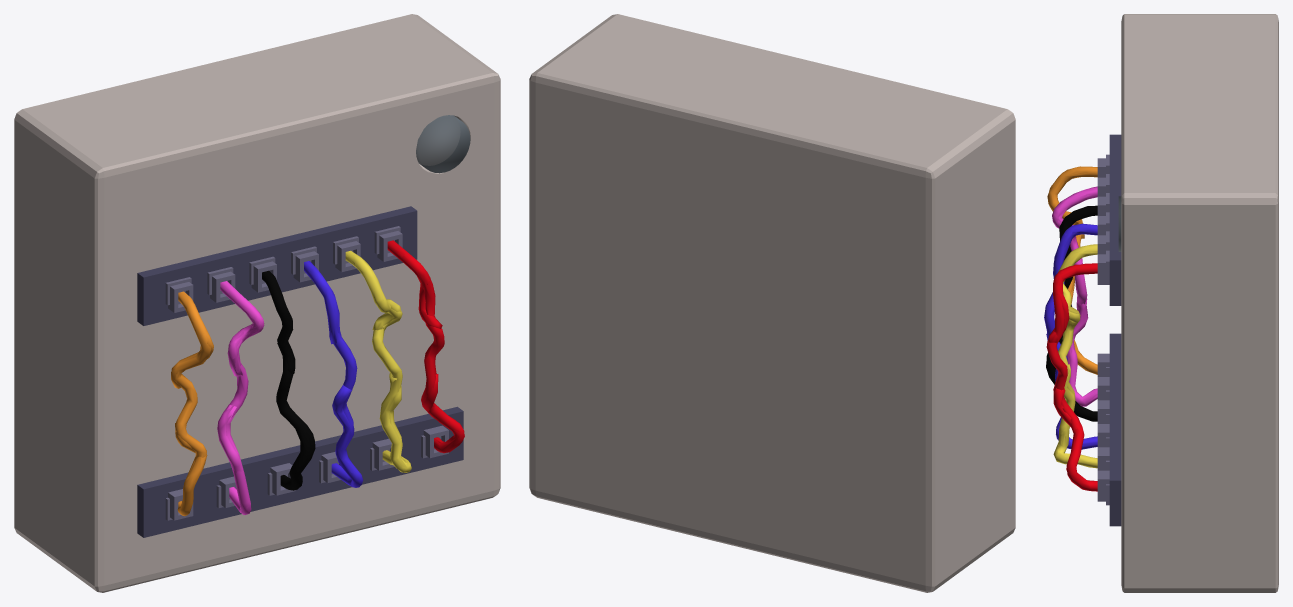
Rendered from simple-wires.glb.
3 renders of one model, left to right at view 1: azimuth 30°, elevation 25°; view 2: azimuth 150°, elevation 25°; view 3: azimuth 270°, elevation 25°, orthographic. The views are drawn at different scales.
Visible parts, largest first — view 1: WiresModule, BigStrip, SmallStrip, Wire5.Normal, Light.002, Wire6.Normal, Wire4.Normal, Wire2.Normal, Wire1.Normal, Wire3.Cut, Wire1.Cut, Wire2.Cut (+11 smaller); view 2: WiresModule; view 3: WiresModule, BigStrip, Wire6.Normal, SmallStrip, Wire6.Cut, Wire2.Normal, Wire5.Cut, Wire5.Normal, Wire4.Normal, Wire2.Cut, Wire1.Normal, Wire3.Normal (+5 smaller).
Part boxes in pixels (box(x1,y1,x2,y2)): WiresModule: box(14, 14, 500, 592); BigStrip: box(137, 406, 463, 537); SmallStrip: box(137, 206, 417, 325); Wire5.Normal: box(345, 251, 411, 472); Light.002: box(416, 115, 470, 173); Wire6.Normal: box(387, 240, 464, 453); Wire4.Normal: box(304, 261, 363, 487); Wire2.Normal: box(217, 281, 264, 514); Wire1.Normal: box(171, 291, 213, 515); Wire3.Cut: box(262, 271, 310, 490); Wire1.Cut: box(171, 292, 211, 515); Wire2.Cut: box(220, 281, 264, 514); WiresModule: box(529, 14, 1015, 592); WiresModule: box(1121, 14, 1278, 592); BigStrip: box(1109, 333, 1121, 526); Wire6.Normal: box(1046, 263, 1097, 491); SmallStrip: box(1109, 134, 1121, 305); Wire6.Cut: box(1048, 263, 1097, 491); Wire2.Normal: box(1052, 186, 1097, 406); Wire5.Cut: box(1054, 245, 1097, 467); Wire5.Normal: box(1053, 244, 1097, 468); Wire4.Normal: box(1044, 223, 1097, 448); Wire2.Cut: box(1052, 187, 1097, 406); Wire1.Normal: box(1047, 166, 1097, 374); Wire3.Normal: box(1046, 206, 1097, 421).
Size of the model in its own units: 0.1761 by 0.1761 by 0.0938.
